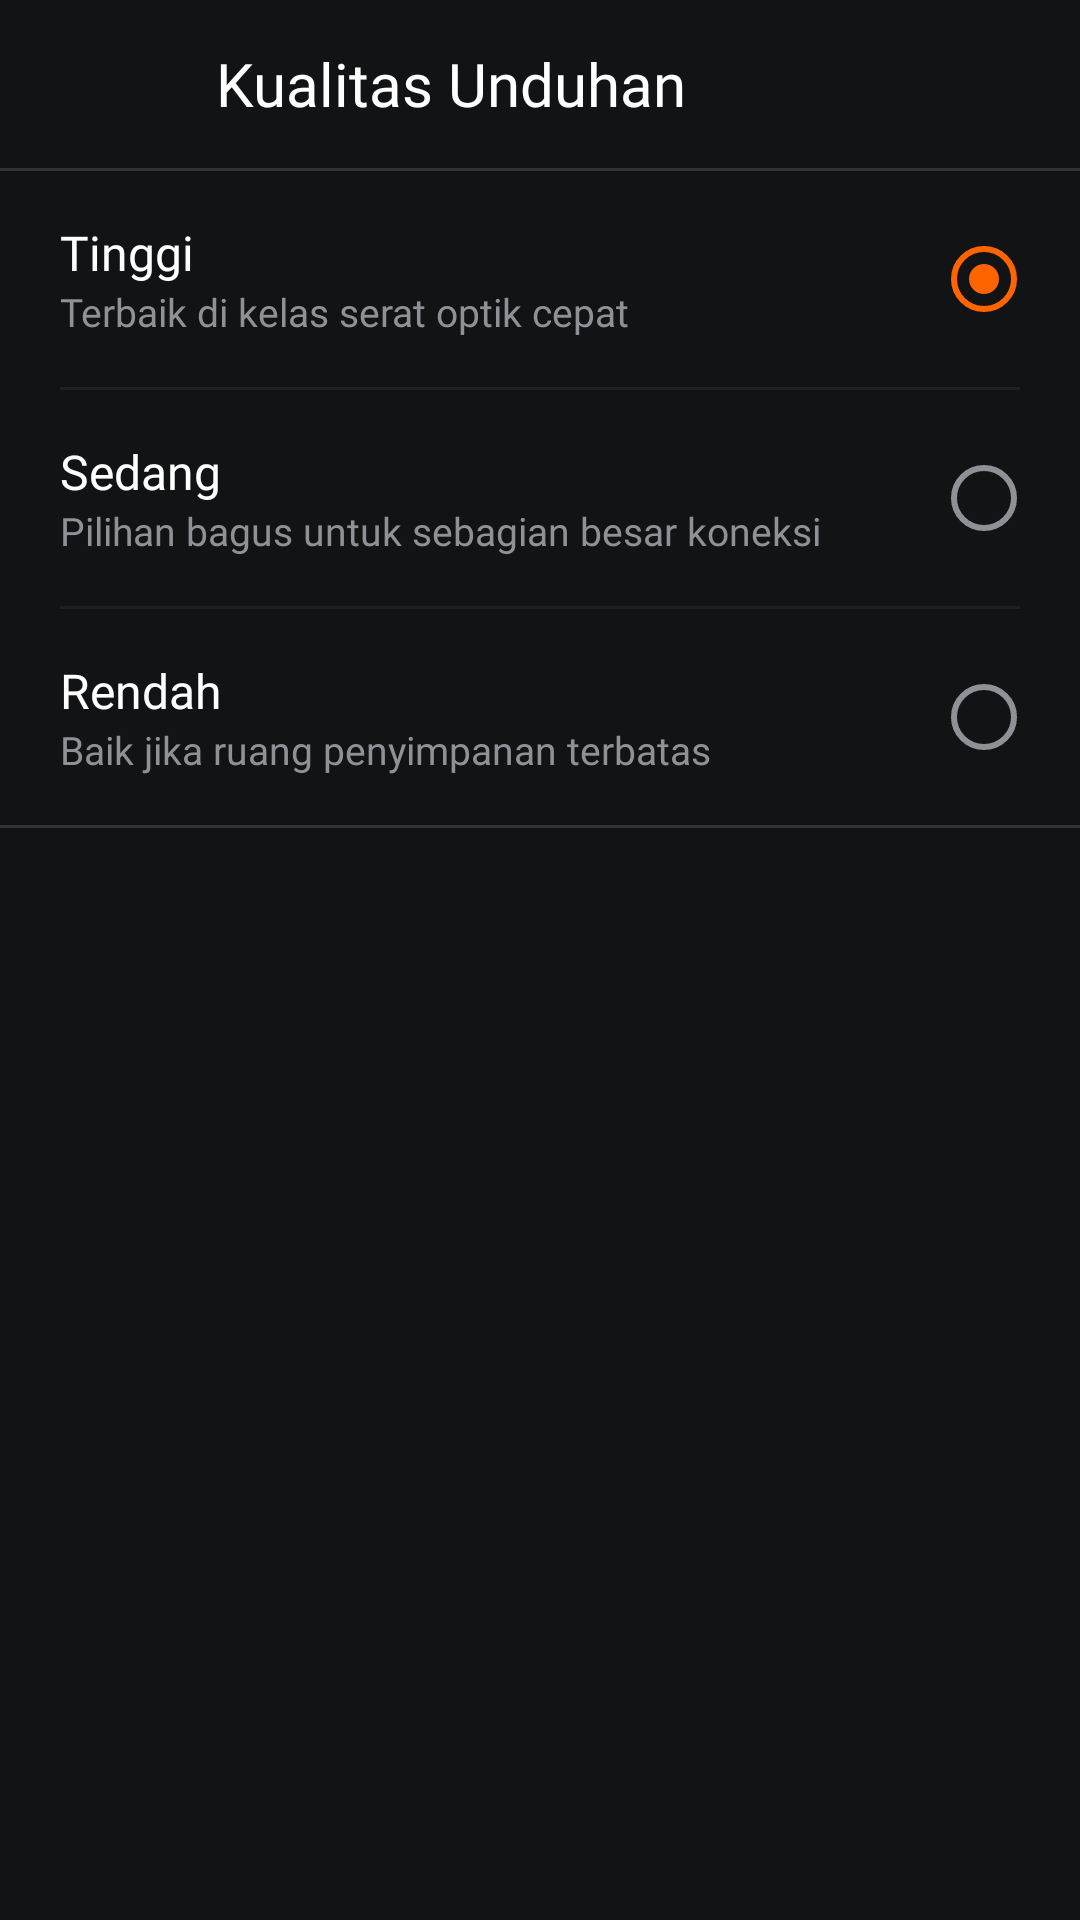

Icon bounding boxes for this 1080 × 1920 phone screenshot, format (left=x1, top=y1, right=x2, bottom=y2):
radio: (left=951, top=246, right=1017, bottom=312), (left=951, top=465, right=1017, bottom=531), (left=951, top=684, right=1017, bottom=750)
